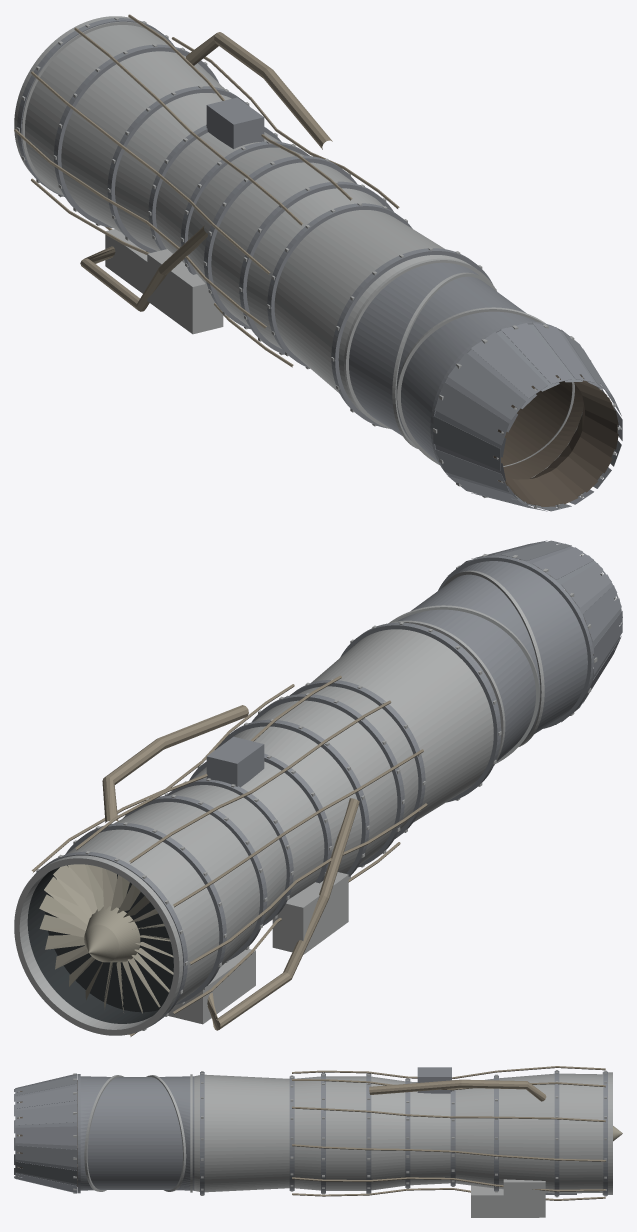
The model's file is F135-PW-600-full.glb.
3 renders of one model, top to bottom at view 1: azimuth 30°, elevation 25°; view 2: azimuth 150°, elevation 25°; view 3: azimuth 270°, elevation 25°, orthographic. The views are drawn at different scales.
Visible parts, largest first — view 1: F135_ExternalCasing, F135_CasingFlanges, F135_ExternalPlumbing, F135_ForwardSwivelShell, F135_AftCasing, F135_Accessories, F135_AftSwivelShell, F135_MiddleLiner, F135_MiddleSwivelShell, F135_ForwardBearingRings, F135_MountsAndDriveHousing, F135_Fairing_07_Metal (+12 smaller); view 2: F135_ExternalCasing, F135_CasingFlanges, F135_ExternalPlumbing, F135_FanFace, F135_IntakeOccluder, F135_AftCasing, F135_AftSwivelShell, F135_Accessories, F135_ForwardSwivelShell, F135_InletLip, F135_MiddleSwivelShell, F135_MountsAndDriveHousing (+8 smaller); view 3: F135_ExternalCasing, F135_MiddleSwivelShell, F135_ExternalPlumbing, F135_CasingFlanges, F135_AftCasing, F135_Accessories, F135_ForwardSwivelShell, F135_AftSwivelShell, F135_Fairing_02_Metal, F135_Fairing_03_Metal, F135_Fairing_01_Metal, F135_InletLip (+11 smaller).
Part boxes in pixels (bbox=[...]): F135_ExternalCasing: bbox=[25, 25, 429, 381]; F135_CasingFlanges: bbox=[17, 18, 492, 428]; F135_ExternalPlumbing: bbox=[14, 14, 399, 367]; F135_ForwardSwivelShell: bbox=[349, 262, 478, 435]; F135_AftCasing: bbox=[308, 233, 471, 412]; F135_Accessories: bbox=[16, 17, 496, 426]; F135_AftSwivelShell: bbox=[401, 311, 536, 462]; F135_MiddleLiner: bbox=[501, 381, 572, 465]; F135_MiddleSwivelShell: bbox=[396, 276, 526, 440]; F135_ForwardBearingRings: bbox=[344, 258, 496, 448]; F135_MountsAndDriveHousing: bbox=[206, 97, 264, 148]; F135_Fairing_07_Metal: bbox=[448, 352, 525, 419]; F135_ExternalCasing: bbox=[66, 653, 461, 1003]; F135_CasingFlanges: bbox=[34, 622, 501, 1028]; F135_ExternalPlumbing: bbox=[31, 675, 427, 1036]; F135_FanFace: bbox=[39, 864, 173, 1013]; F135_IntakeOccluder: bbox=[27, 865, 173, 1023]; F135_AftCasing: bbox=[332, 629, 493, 807]; F135_AftSwivelShell: bbox=[457, 561, 587, 733]; F135_Accessories: bbox=[36, 622, 501, 1030]; F135_ForwardSwivelShell: bbox=[397, 609, 535, 761]; F135_InletLip: bbox=[14, 855, 183, 1035]; F135_MiddleSwivelShell: bbox=[411, 574, 540, 738]; F135_MountsAndDriveHousing: bbox=[206, 736, 264, 787]; F135_ExternalCasing: bbox=[242, 1073, 602, 1193]; F135_MiddleSwivelShell: bbox=[87, 1077, 182, 1189]; F135_ExternalPlumbing: bbox=[292, 1066, 605, 1200]; F135_CasingFlanges: bbox=[200, 1071, 607, 1196]; F135_AftCasing: bbox=[194, 1074, 242, 1192]; F135_Accessories: bbox=[201, 1070, 606, 1217]; F135_ForwardSwivelShell: bbox=[159, 1076, 194, 1190]; F135_AftSwivelShell: bbox=[80, 1076, 110, 1190]; F135_Fairing_02_Metal: bbox=[15, 1126, 76, 1145]; F135_Fairing_03_Metal: bbox=[15, 1104, 76, 1125]; F135_Fairing_01_Metal: bbox=[15, 1145, 76, 1167]; F135_InletLip: bbox=[602, 1072, 612, 1194].
Bounding box in the file's own units: 1.25 × 1.42 × 5.63.
